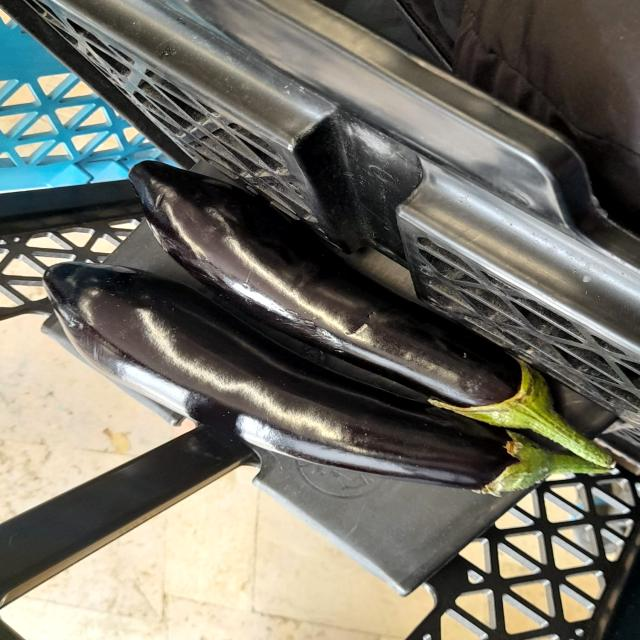eggplant: (129, 153, 623, 470), (28, 259, 613, 492)
